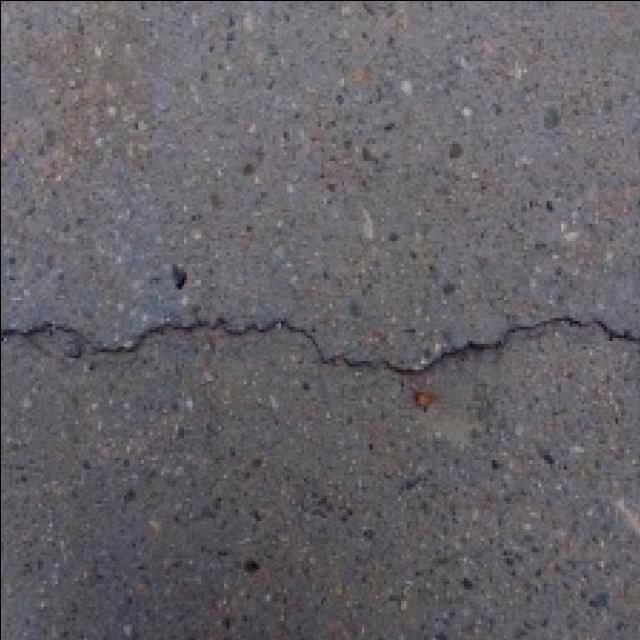SurfaceCrack: (6, 268, 640, 398)
